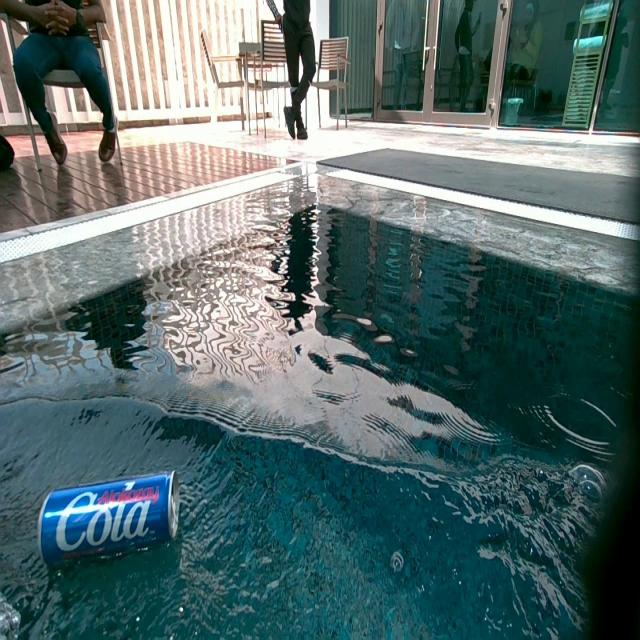Cans: (38, 471, 178, 566)
